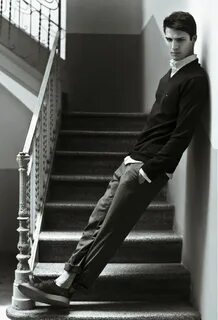awake: (17, 10, 208, 309)
